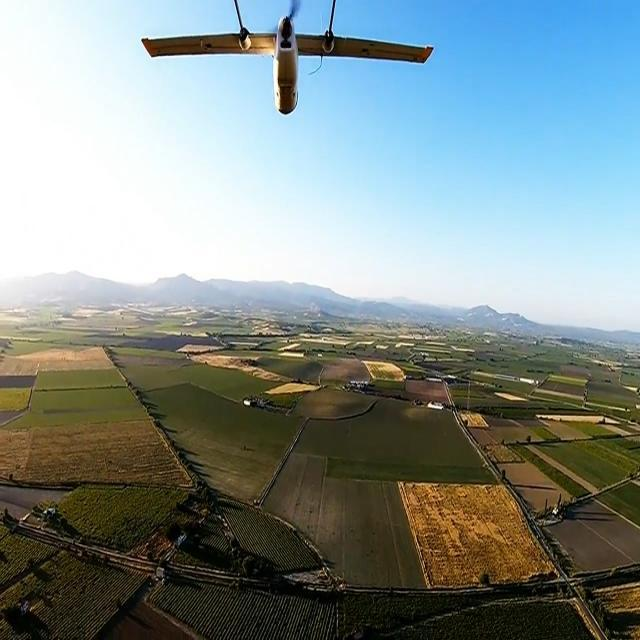iha: (140, 32, 440, 88)
